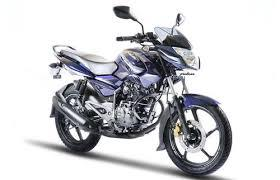motorcycle: (47, 3, 232, 179)
